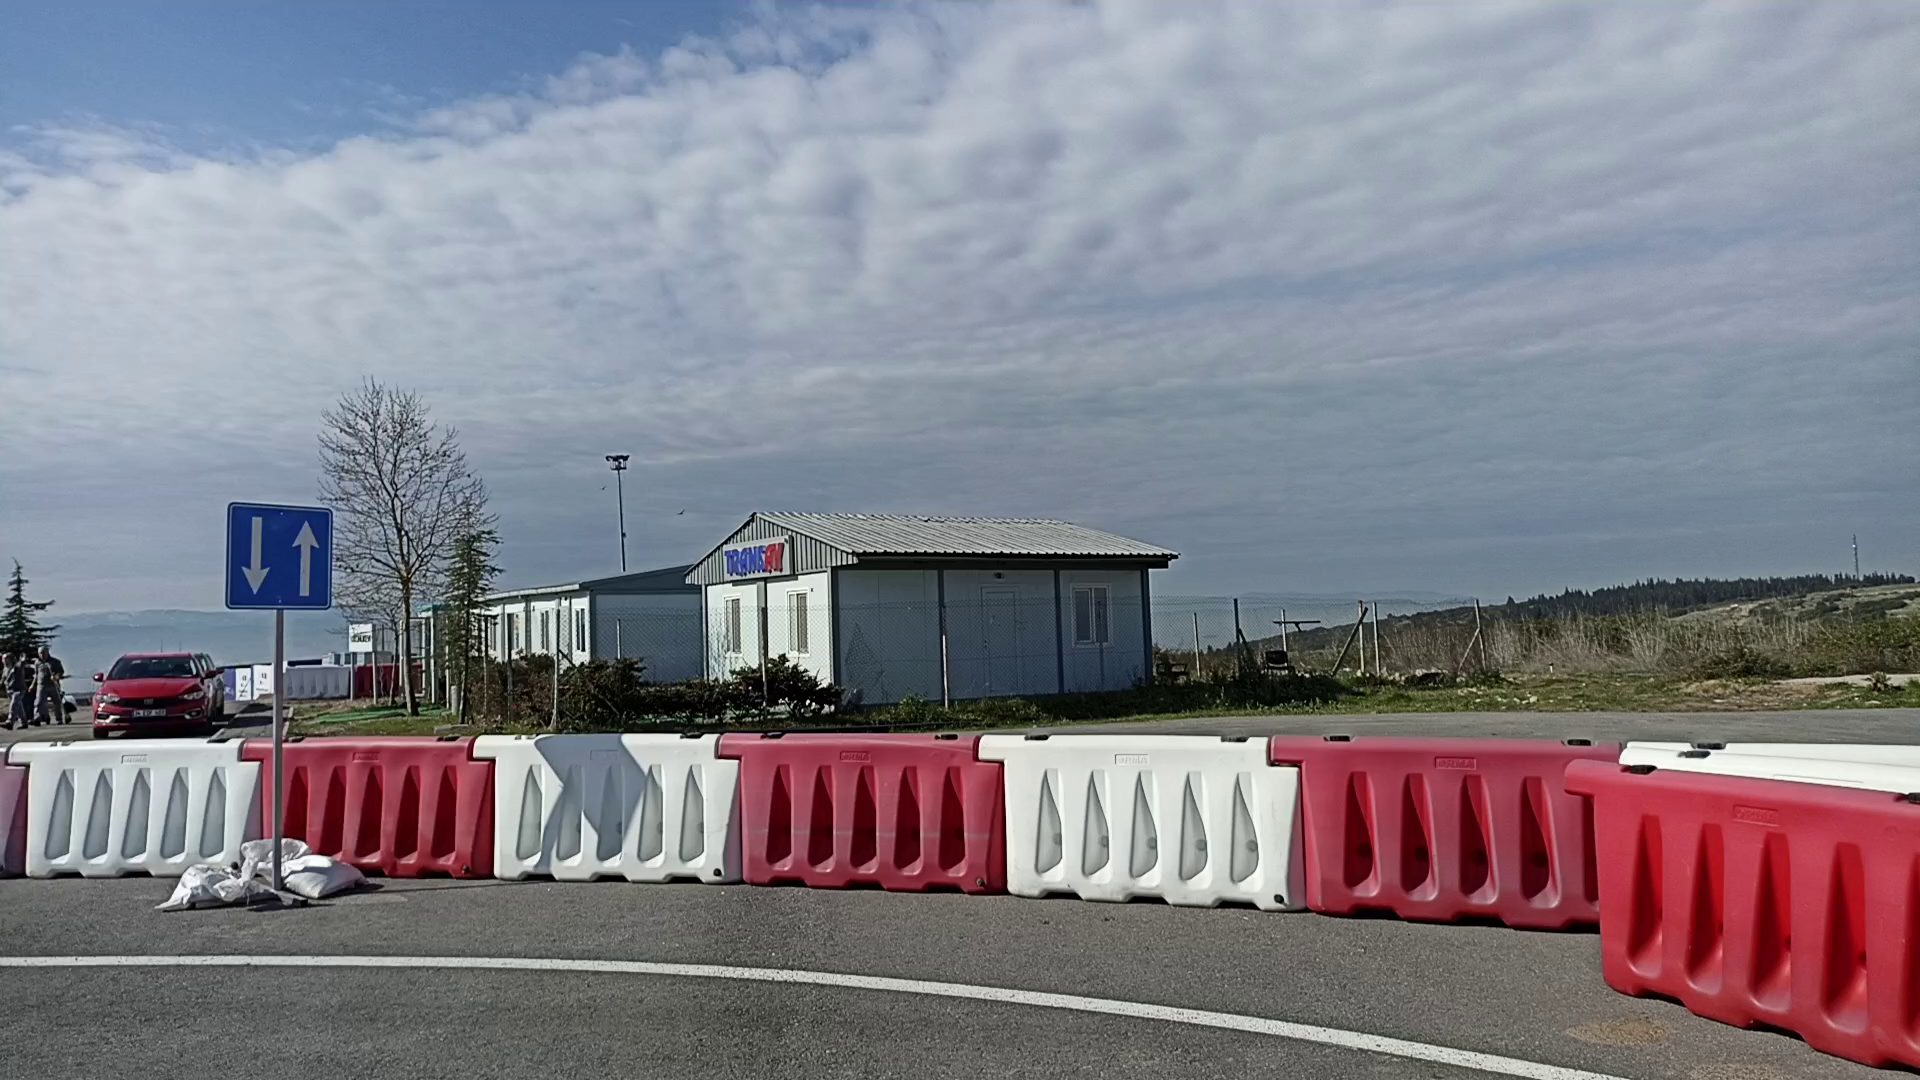oneway: (223, 500, 335, 612)
